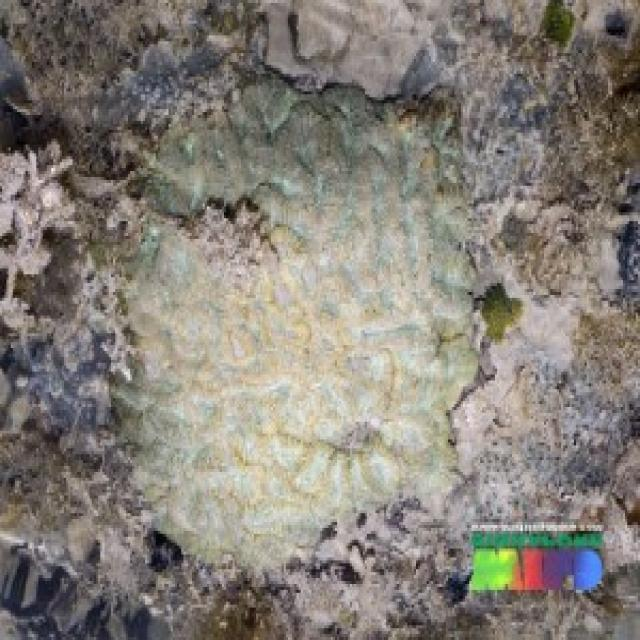Bleached: (118, 85, 483, 570)
